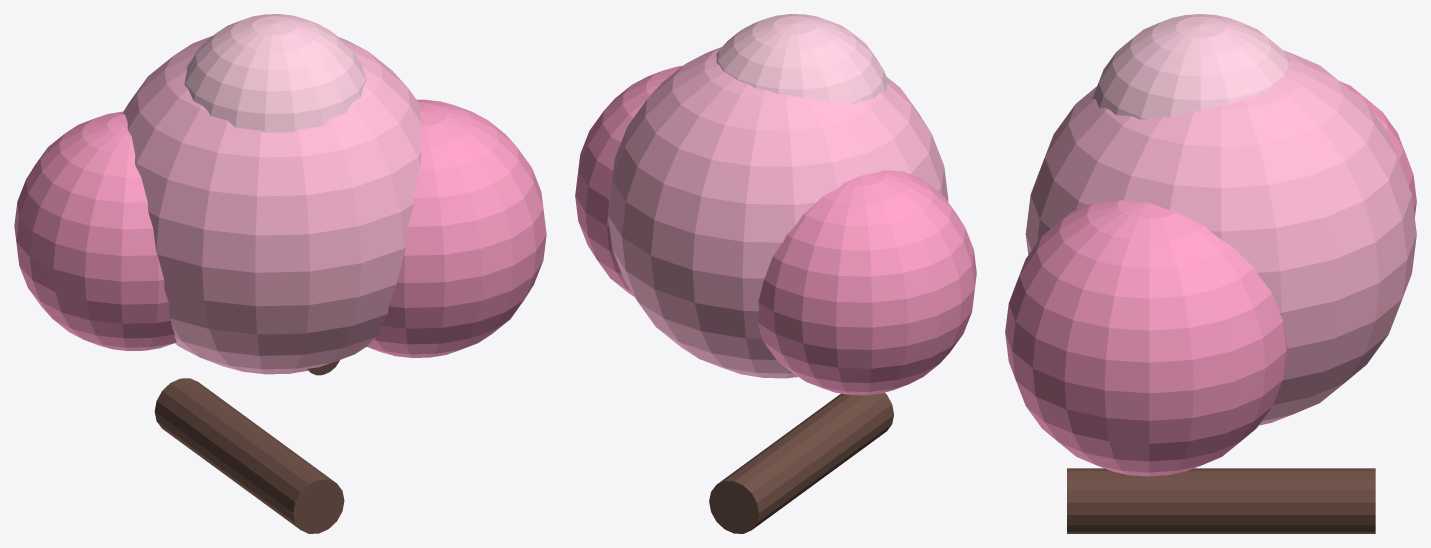
The model's file is sakura.glb.
The picture shows the model from 3 angles, left to right: view 1: azimuth 30°, elevation 25°; view 2: azimuth 150°, elevation 25°; view 3: azimuth 270°, elevation 25°; orthographic projection. The views are drawn at different scales.
Parts seen in each view (by area): view 1: C1, C2, C3, C4, Tr; view 2: C1, C3, Tr, C4, C2; view 3: C1, C2, Tr, C4, C3.
Boxes of the visible parts, x1,y1,x2,y2 form: C1: (123, 35, 422, 374); C2: (367, 99, 546, 357); C3: (14, 111, 176, 350); C4: (184, 14, 366, 132); Tr: (154, 378, 344, 533); C1: (608, 47, 948, 378); C3: (757, 170, 976, 395); Tr: (709, 392, 893, 533); C4: (716, 14, 888, 103); C2: (575, 65, 682, 296); C1: (1025, 50, 1416, 425); C2: (1005, 200, 1287, 476); Tr: (1067, 468, 1375, 533); C4: (1092, 14, 1290, 119); C3: (1340, 81, 1416, 217).
Bounding box in the file's own units: 2.75 × 2.76 × 2.
